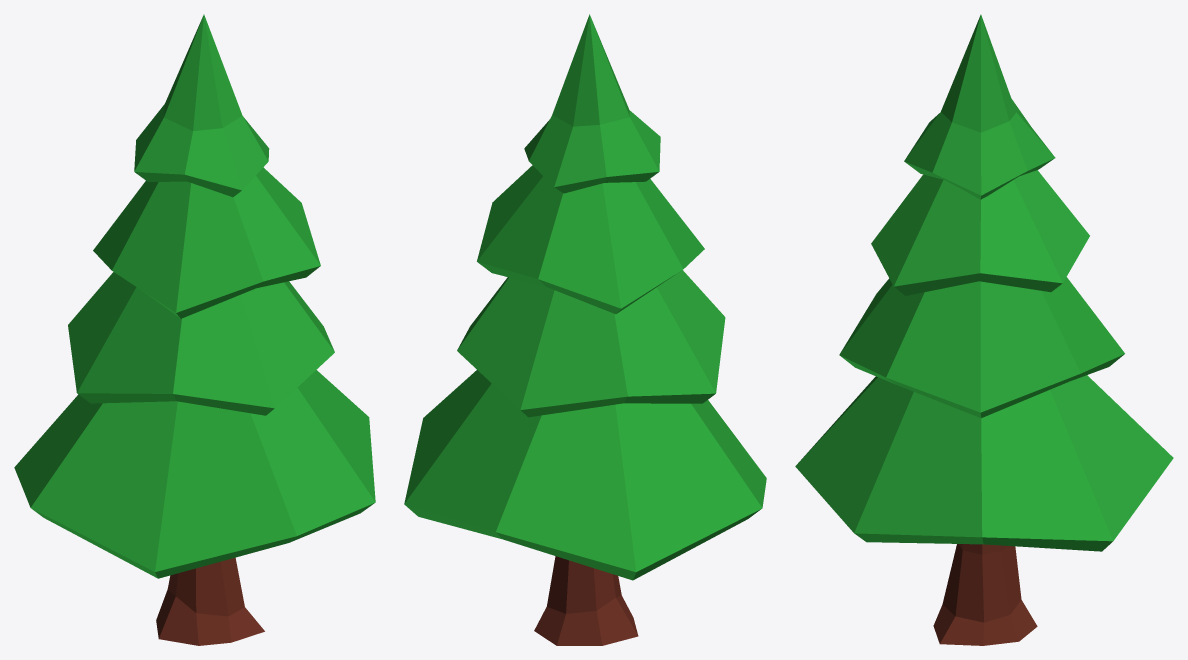
File: piinoo.fbx
The picture shows the model from 3 angles, left to right: view 1: azimuth 30°, elevation 25°; view 2: azimuth 150°, elevation 25°; view 3: azimuth 270°, elevation 25°; orthographic projection.
Parts seen in each view (by area): view 1: Tree_Spruce_small_01; view 2: Tree_Spruce_small_01; view 3: Tree_Spruce_small_01.
Boxes of the visible parts, bbox=[...] form: Tree_Spruce_small_01: bbox=[14, 14, 375, 645]; Tree_Spruce_small_01: bbox=[404, 14, 766, 645]; Tree_Spruce_small_01: bbox=[795, 14, 1173, 645].
Size of the model in its own units: 704 by 1214 by 682.
